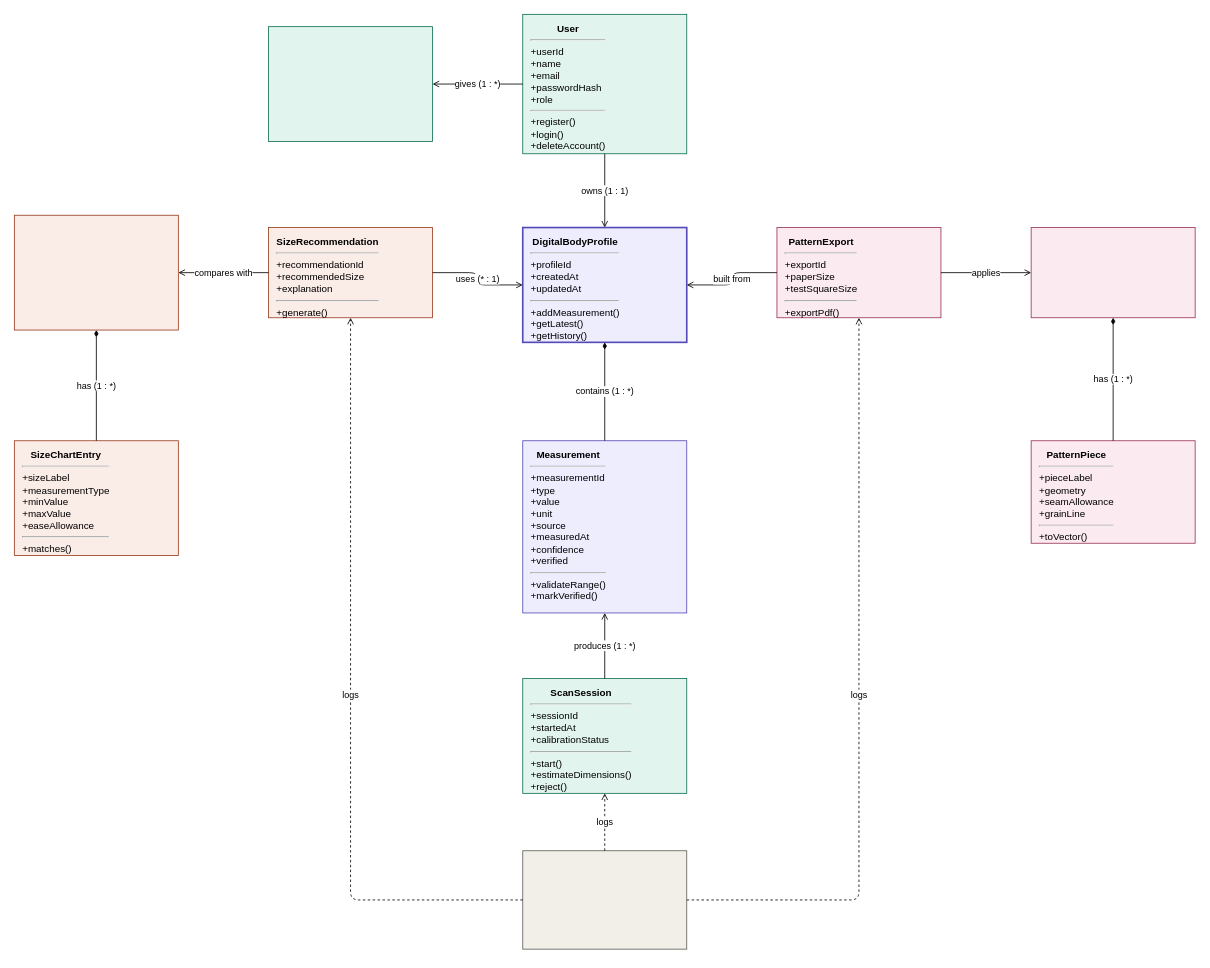
Some shapes in this 1210 by 968 pixel diagram are drawn without their labels. Each missing label, with the centre of its shape:
ConsentRecord +consentId +purpose +givenAt +withdrawnAt +record() +withdraw(): point (350, 83)
EvaluationLog +logId +metricType +value +record() +export(): point (604, 899)
PatternDesign +designId +garmentType +rulesVersion +draft(): point (1112, 272)
SizeChart +chartId +productName +category +sourceNote +addEntry() +confirm(): point (96, 272)
